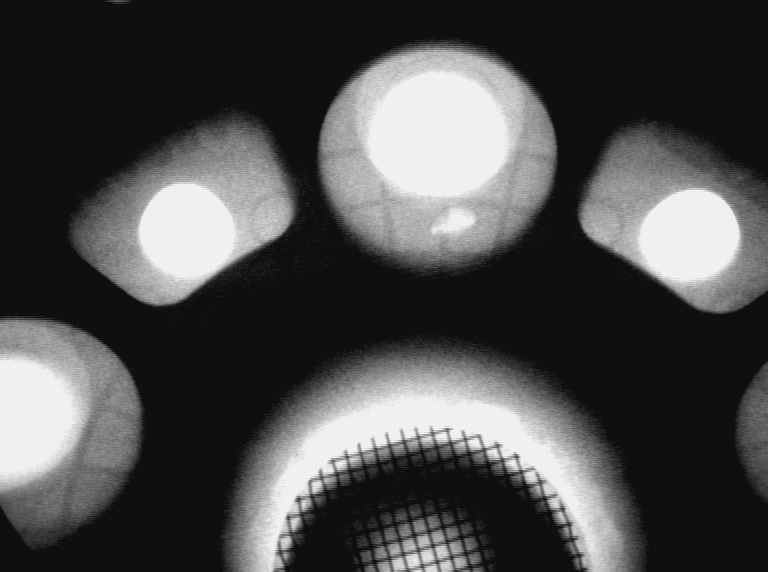defect: (429, 202, 483, 243)
